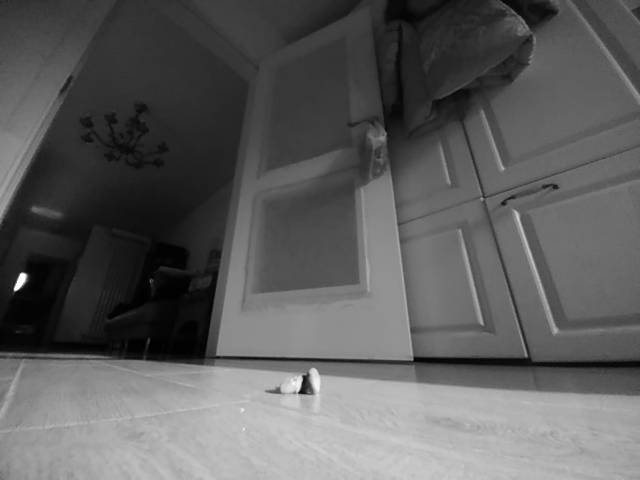pet feces: (277, 366, 322, 396)
